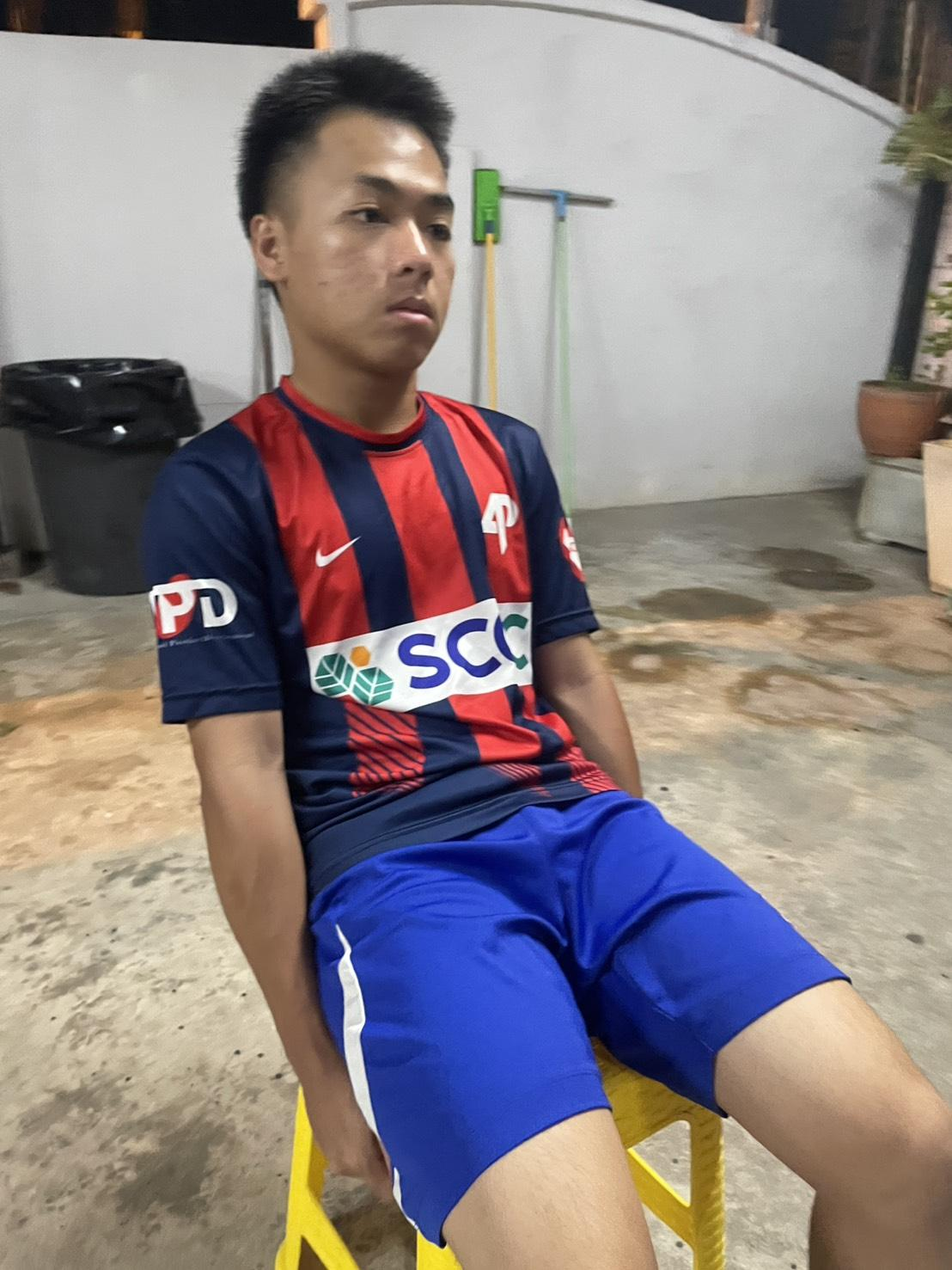BadPosture: (142, 51, 951, 1269), (143, 51, 664, 876)
